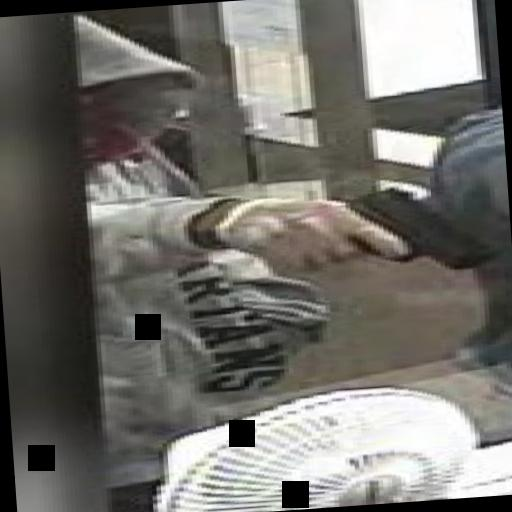Handgun: (254, 180, 486, 282)
